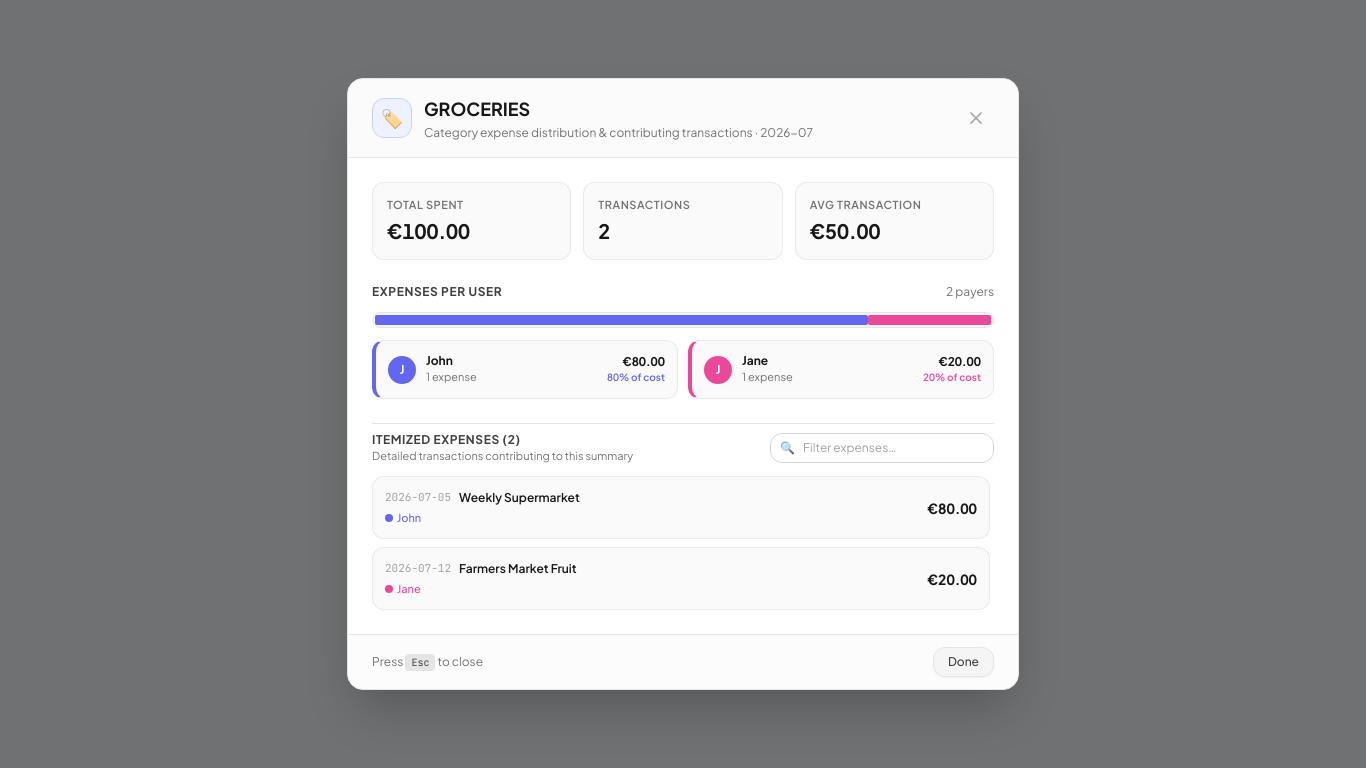
Test: DrilldownModal.svelte — Interactive Dashboard Info Cards Drill-Down › filters itemized expenses in real-time when searching
Expected: the text "Weekly Supermarket" is shown, [459, 490, 580, 506]
Expected: the text "Farmers Market Fruit" is shown, [459, 560, 577, 576]
In the field with placeholder "Filter expenses…": (882, 448) [770, 433, 994, 463], type "Farmers"
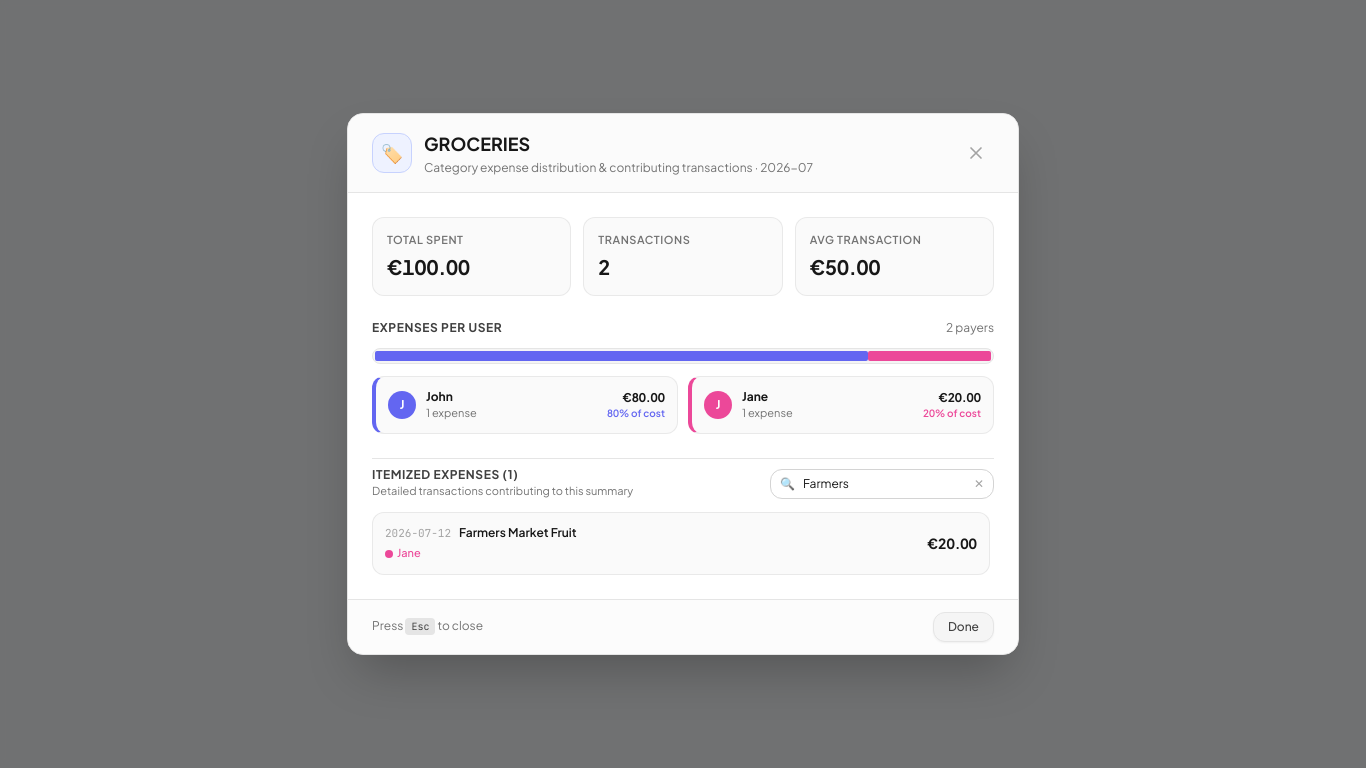
Expected: the text "Farmers Market Fruit" is shown, [459, 525, 577, 541]
Expected: the text "Weekly Supermarket" is gone
